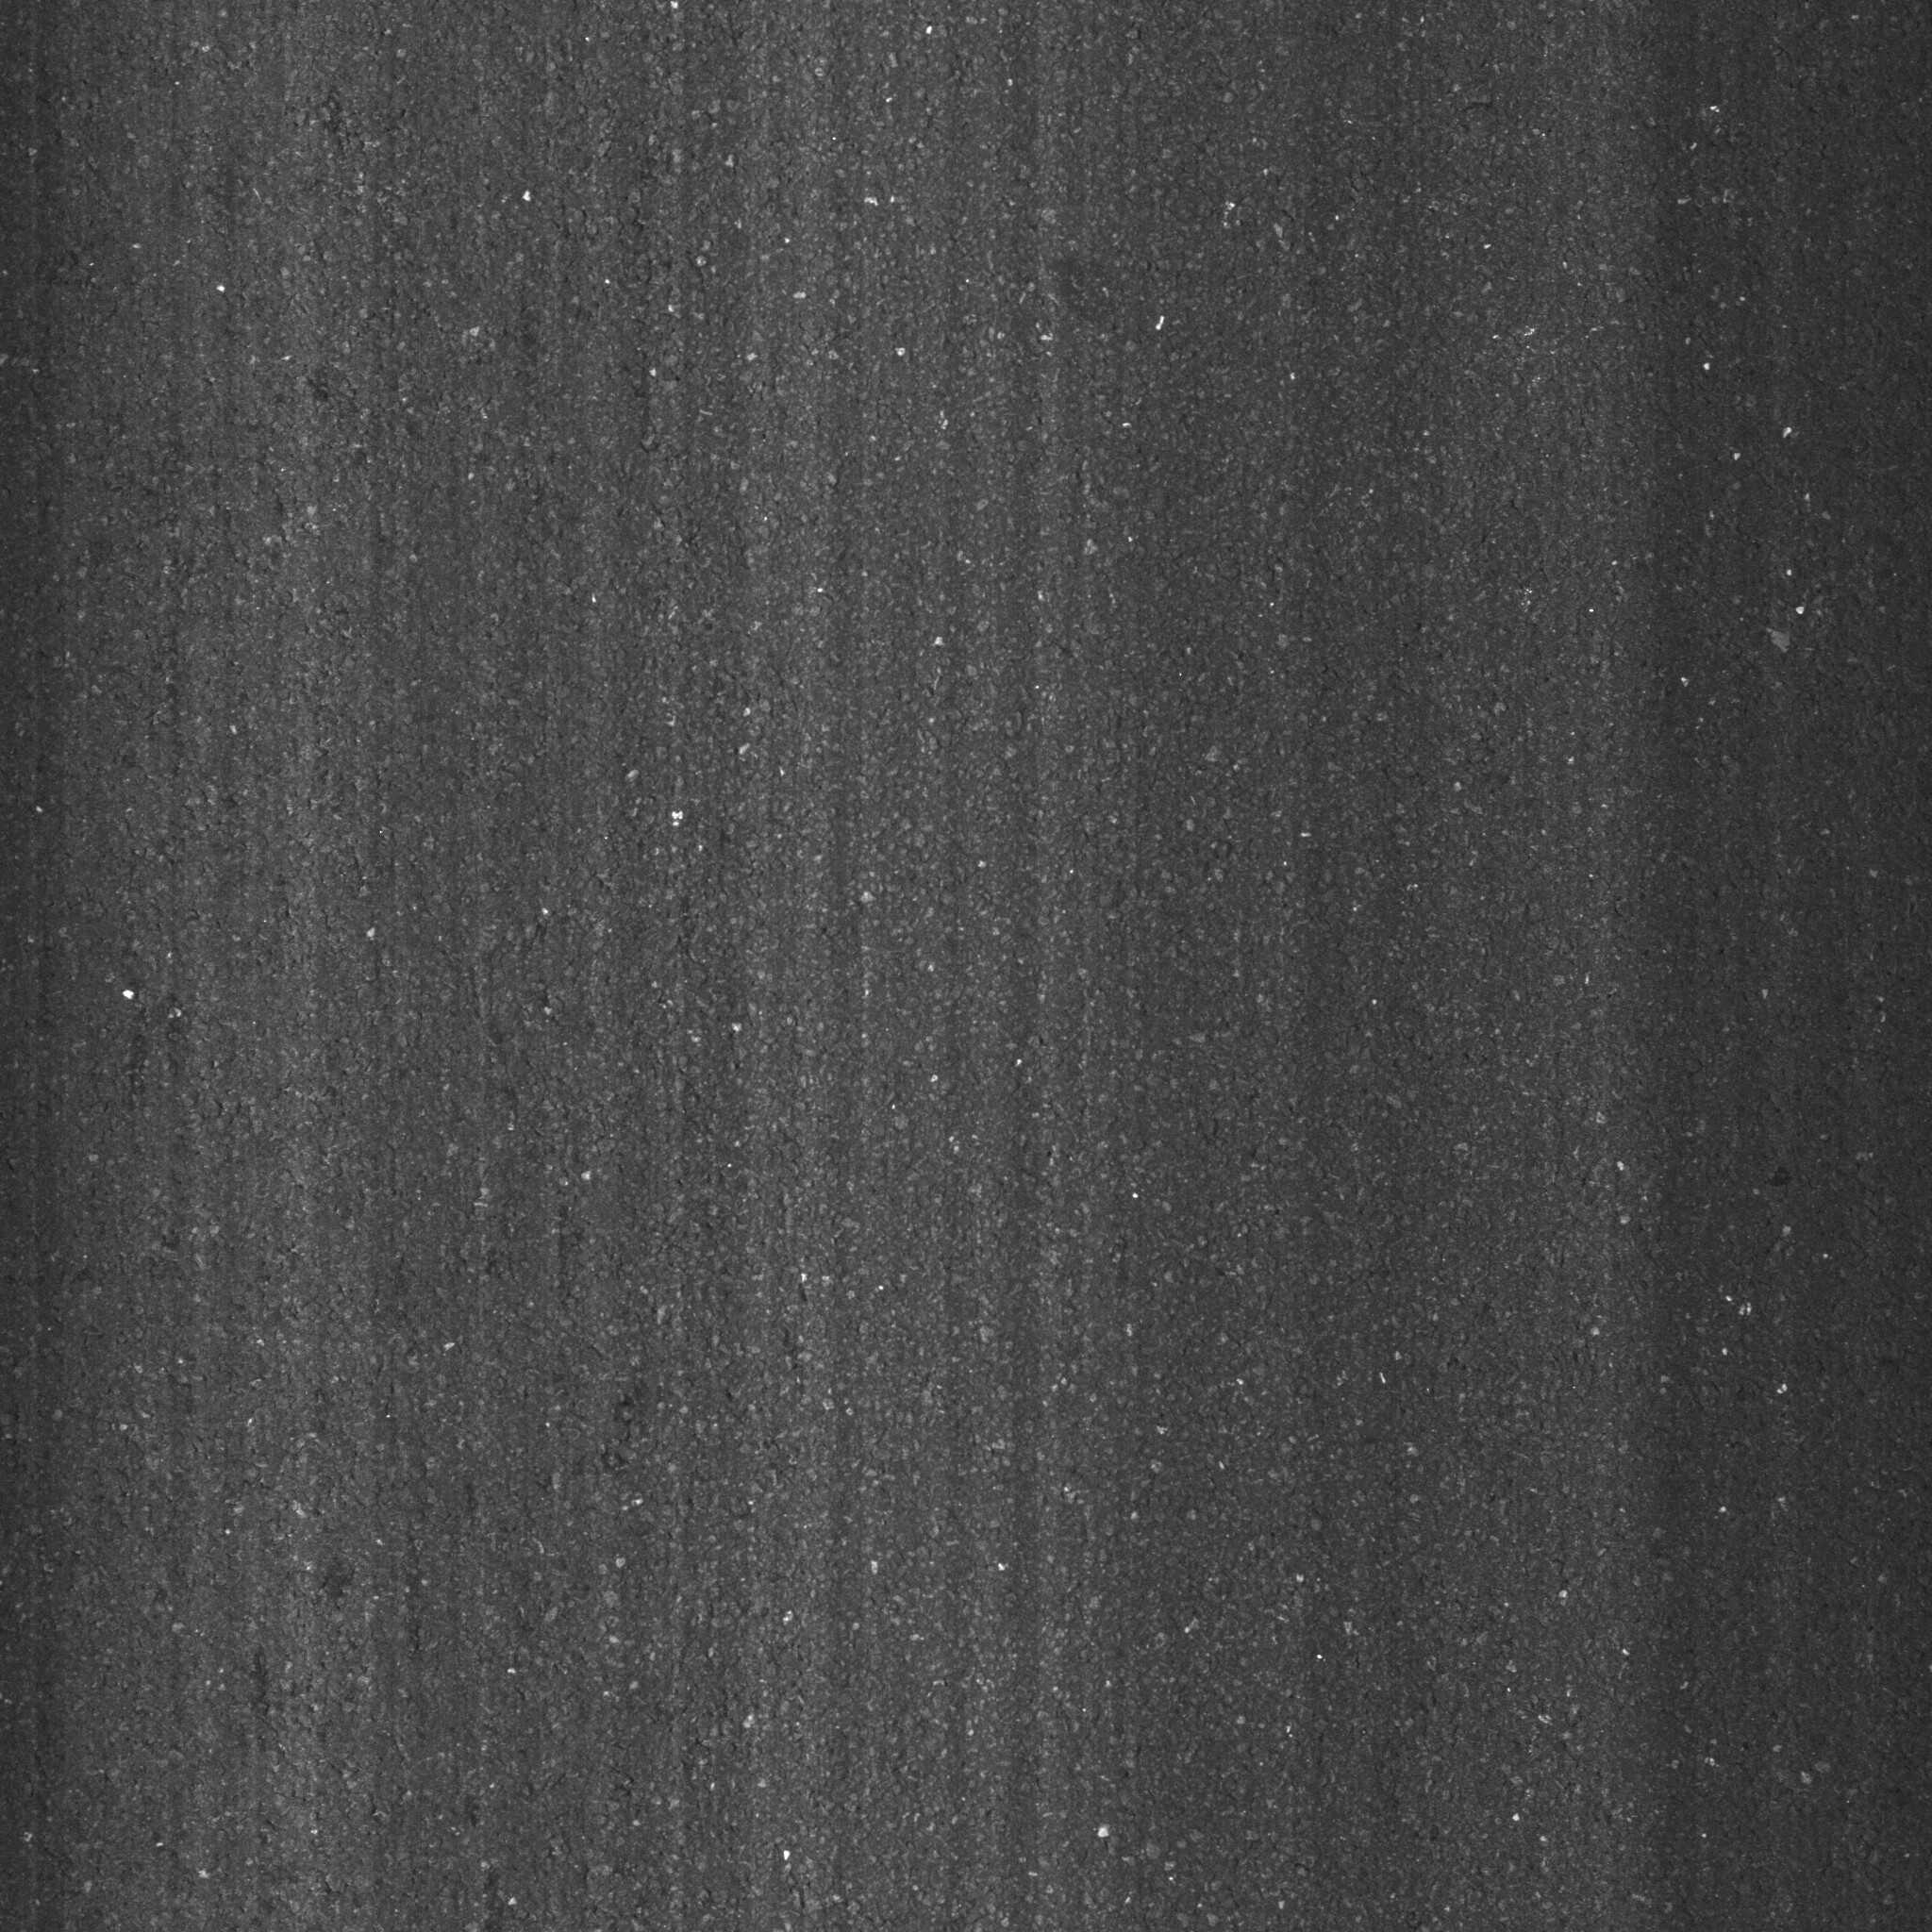transeverse: (1405, 60, 1568, 189)
